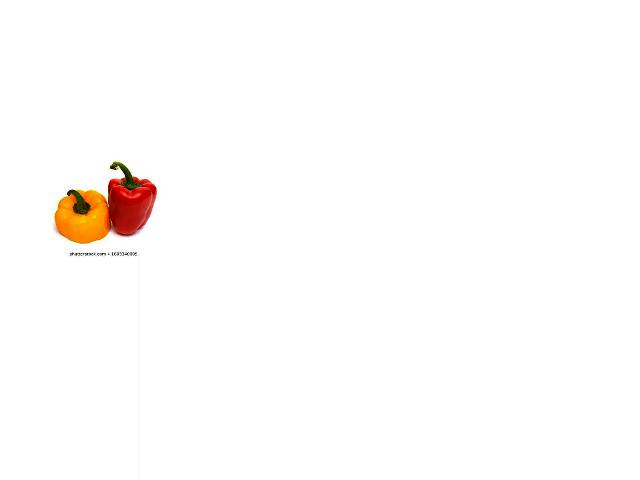bell_pepper: (52, 185, 112, 248)
